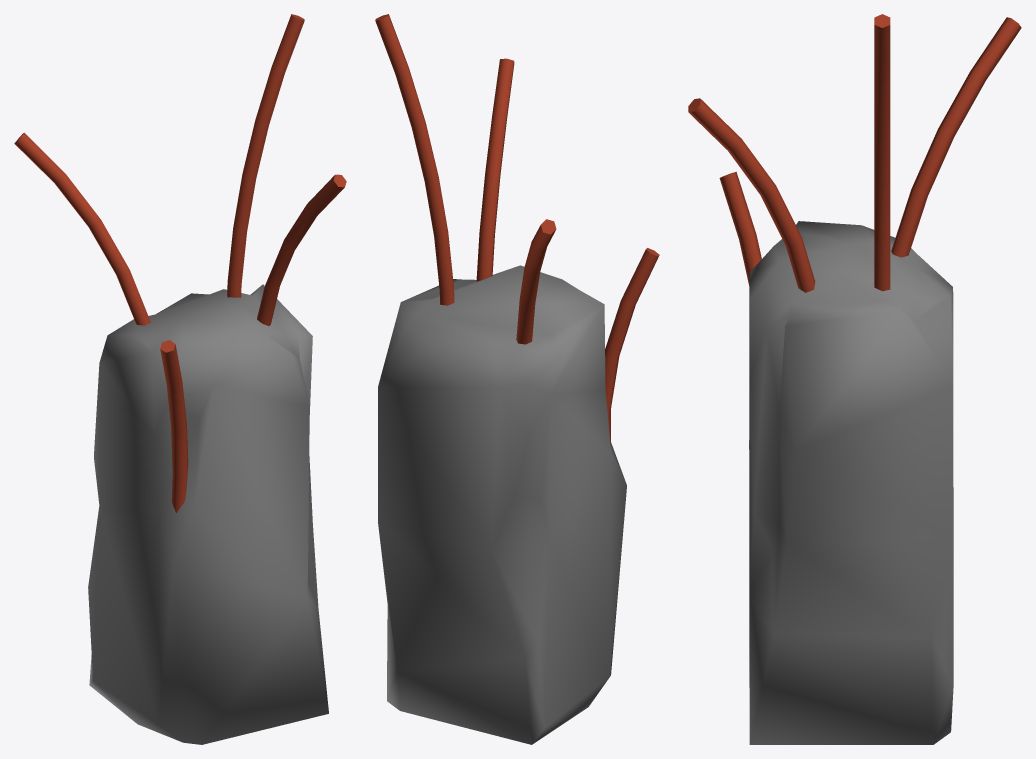
The model's file is SM_pillar_broken_04.fbx.
3 renders of one model, left to right at view 1: azimuth 30°, elevation 25°; view 2: azimuth 150°, elevation 25°; view 3: azimuth 270°, elevation 25°, orthographic. The views are drawn at different scales.
Visible parts, largest first — view 1: Object32355; view 2: Object32355; view 3: Object32355.
Boxes of the visible parts, x1,y1,x2,y2 form: Object32355: (14, 14, 346, 744); Object32355: (375, 14, 659, 744); Object32355: (688, 14, 1021, 744).
Bounding box in the file's own units: 27.53 × 73.37 × 29.86.
